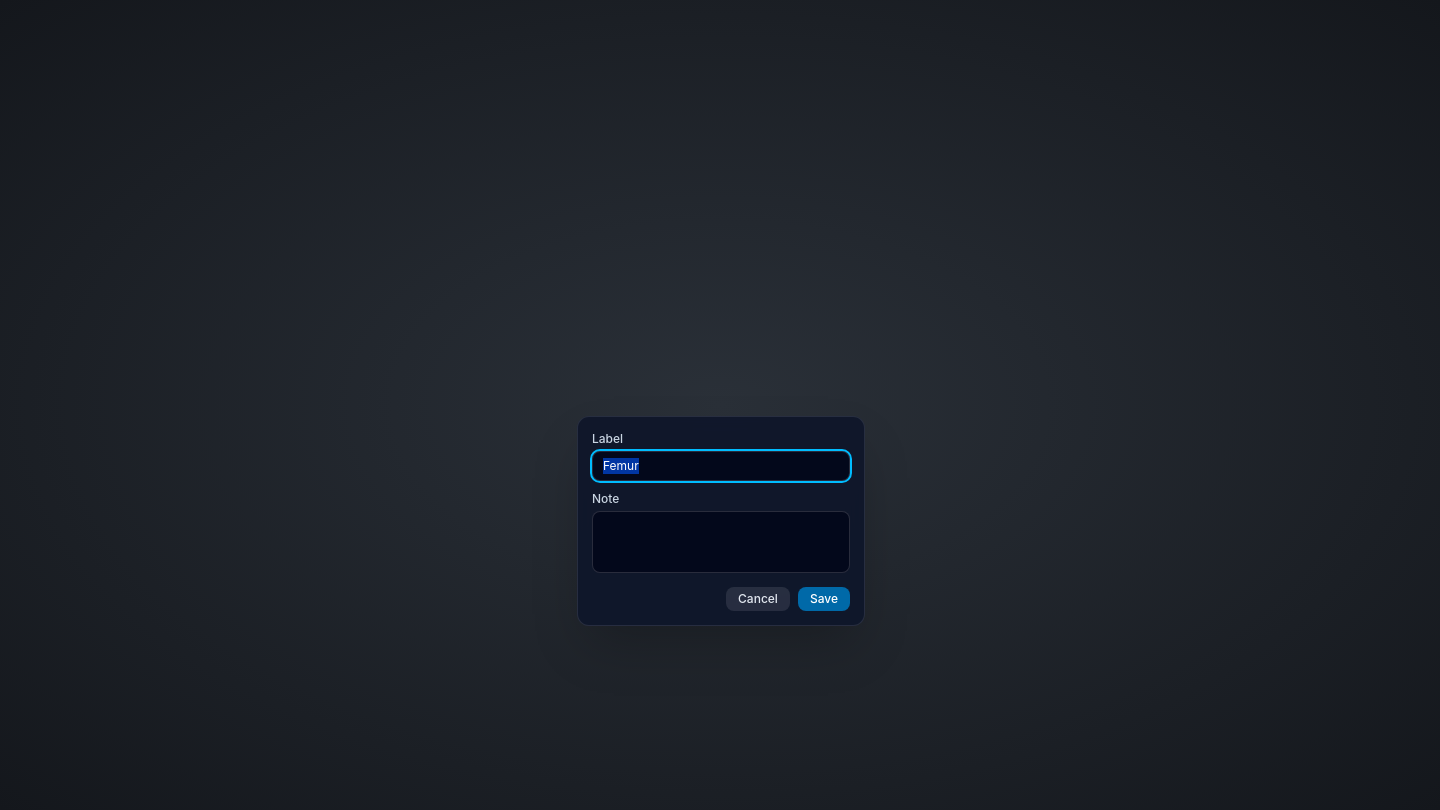
Test case: PinEditor › disables Save when label is empty
Clear the field labelled "Label": point(721, 466) [592,451,850,481]
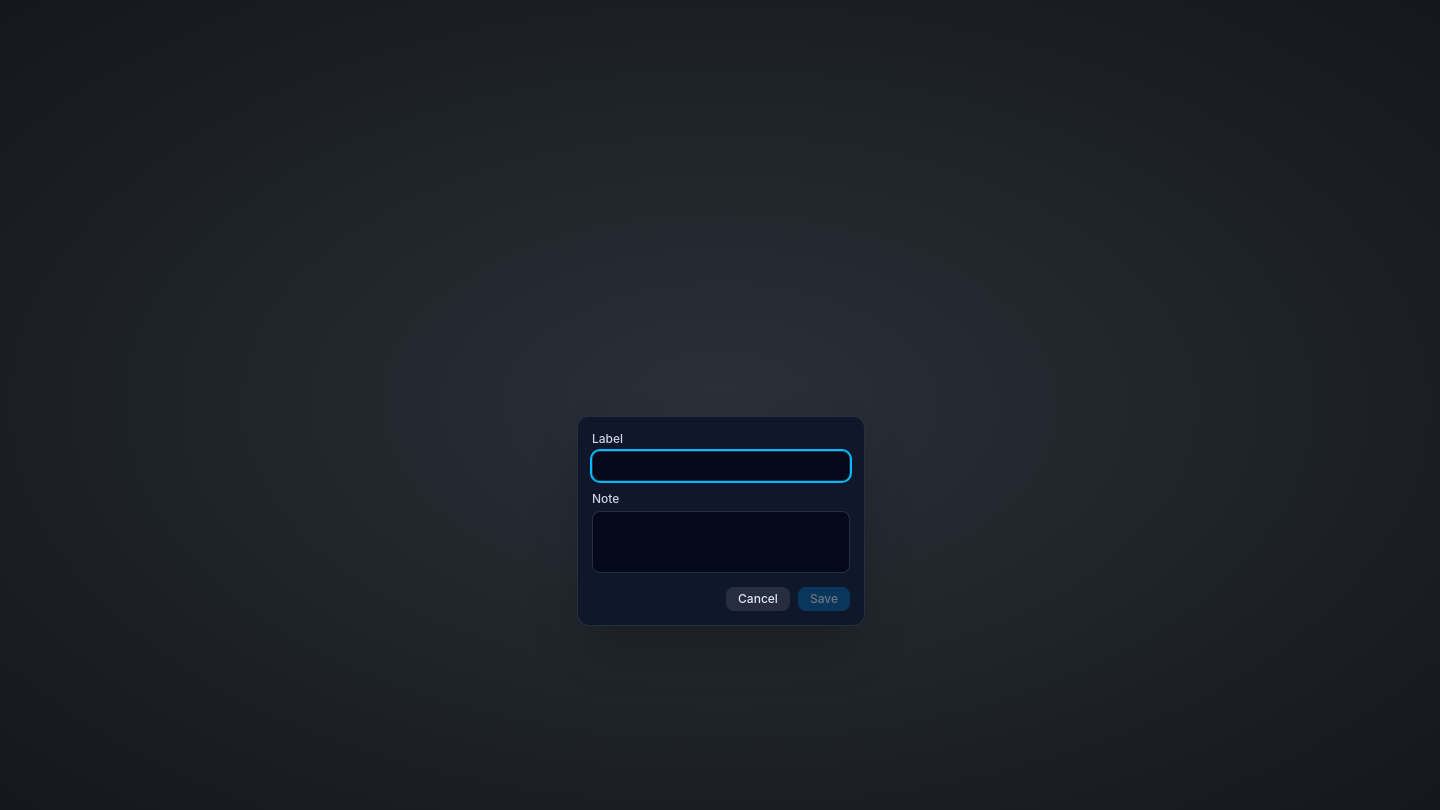
Now the button "Save" is disabled, box [798,587,850,611]
